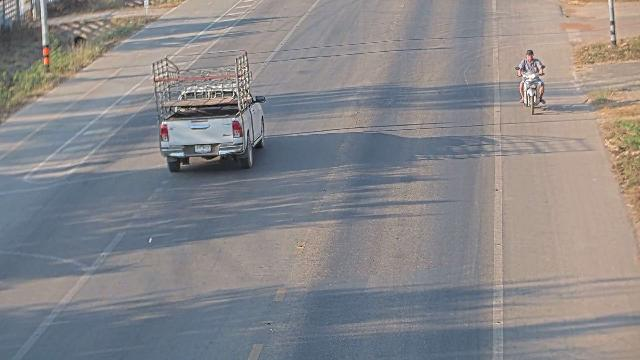pickup-truck: (151, 49, 266, 172)
